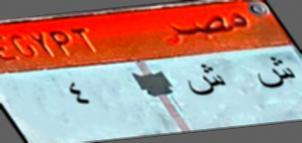4: (66, 78, 93, 112)
sheen: (180, 58, 228, 100), (255, 54, 297, 95)
